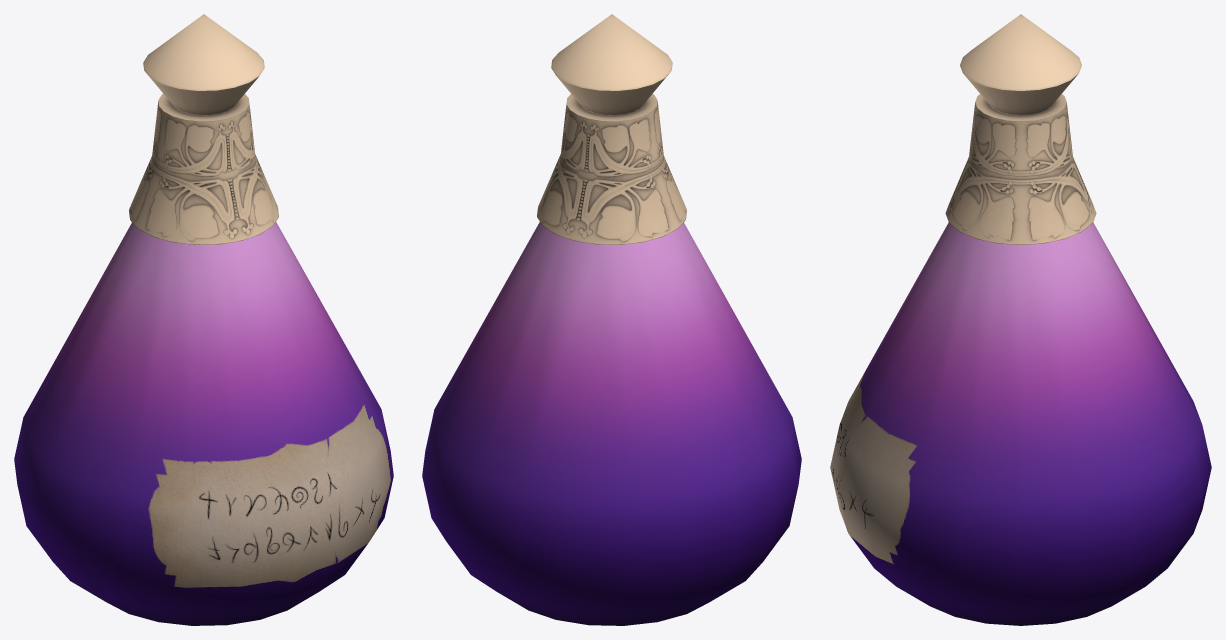
Rendered from mf_potion_01.fbx.
The picture shows the model from 3 angles, left to right: view 1: azimuth 30°, elevation 25°; view 2: azimuth 150°, elevation 25°; view 3: azimuth 270°, elevation 25°; orthographic projection.
Visible parts, largest first — view 1: mf potion 01; view 2: mf potion 01; view 3: mf potion 01.
Boxes of the visible parts, left/top/right/bottom form: mf potion 01: left=14, top=14, right=393, bottom=625; mf potion 01: left=422, top=14, right=801, bottom=625; mf potion 01: left=830, top=14, right=1211, bottom=625.
Bounding box in the file's own units: 47.29 × 77.21 × 47.29.
